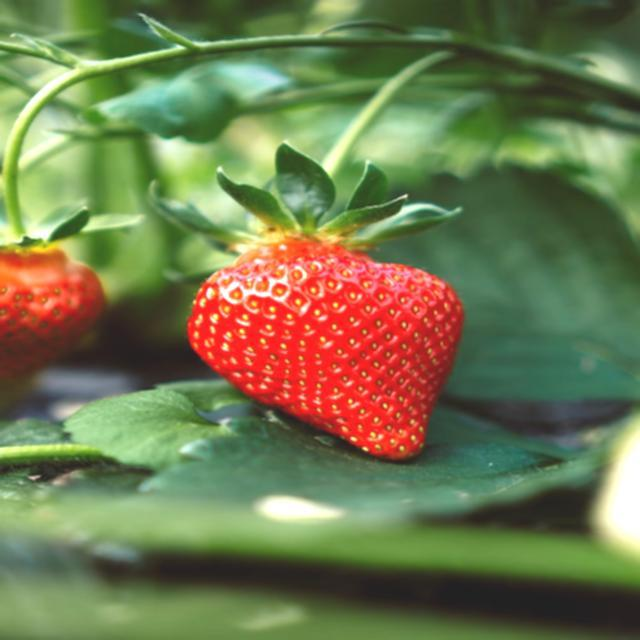strawberry: (188, 236, 462, 459), (0, 246, 105, 377)
